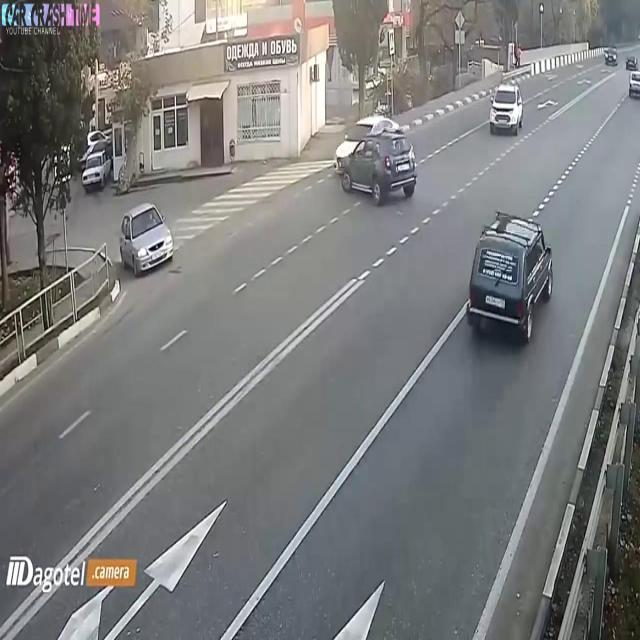accident: (327, 101, 422, 206)
